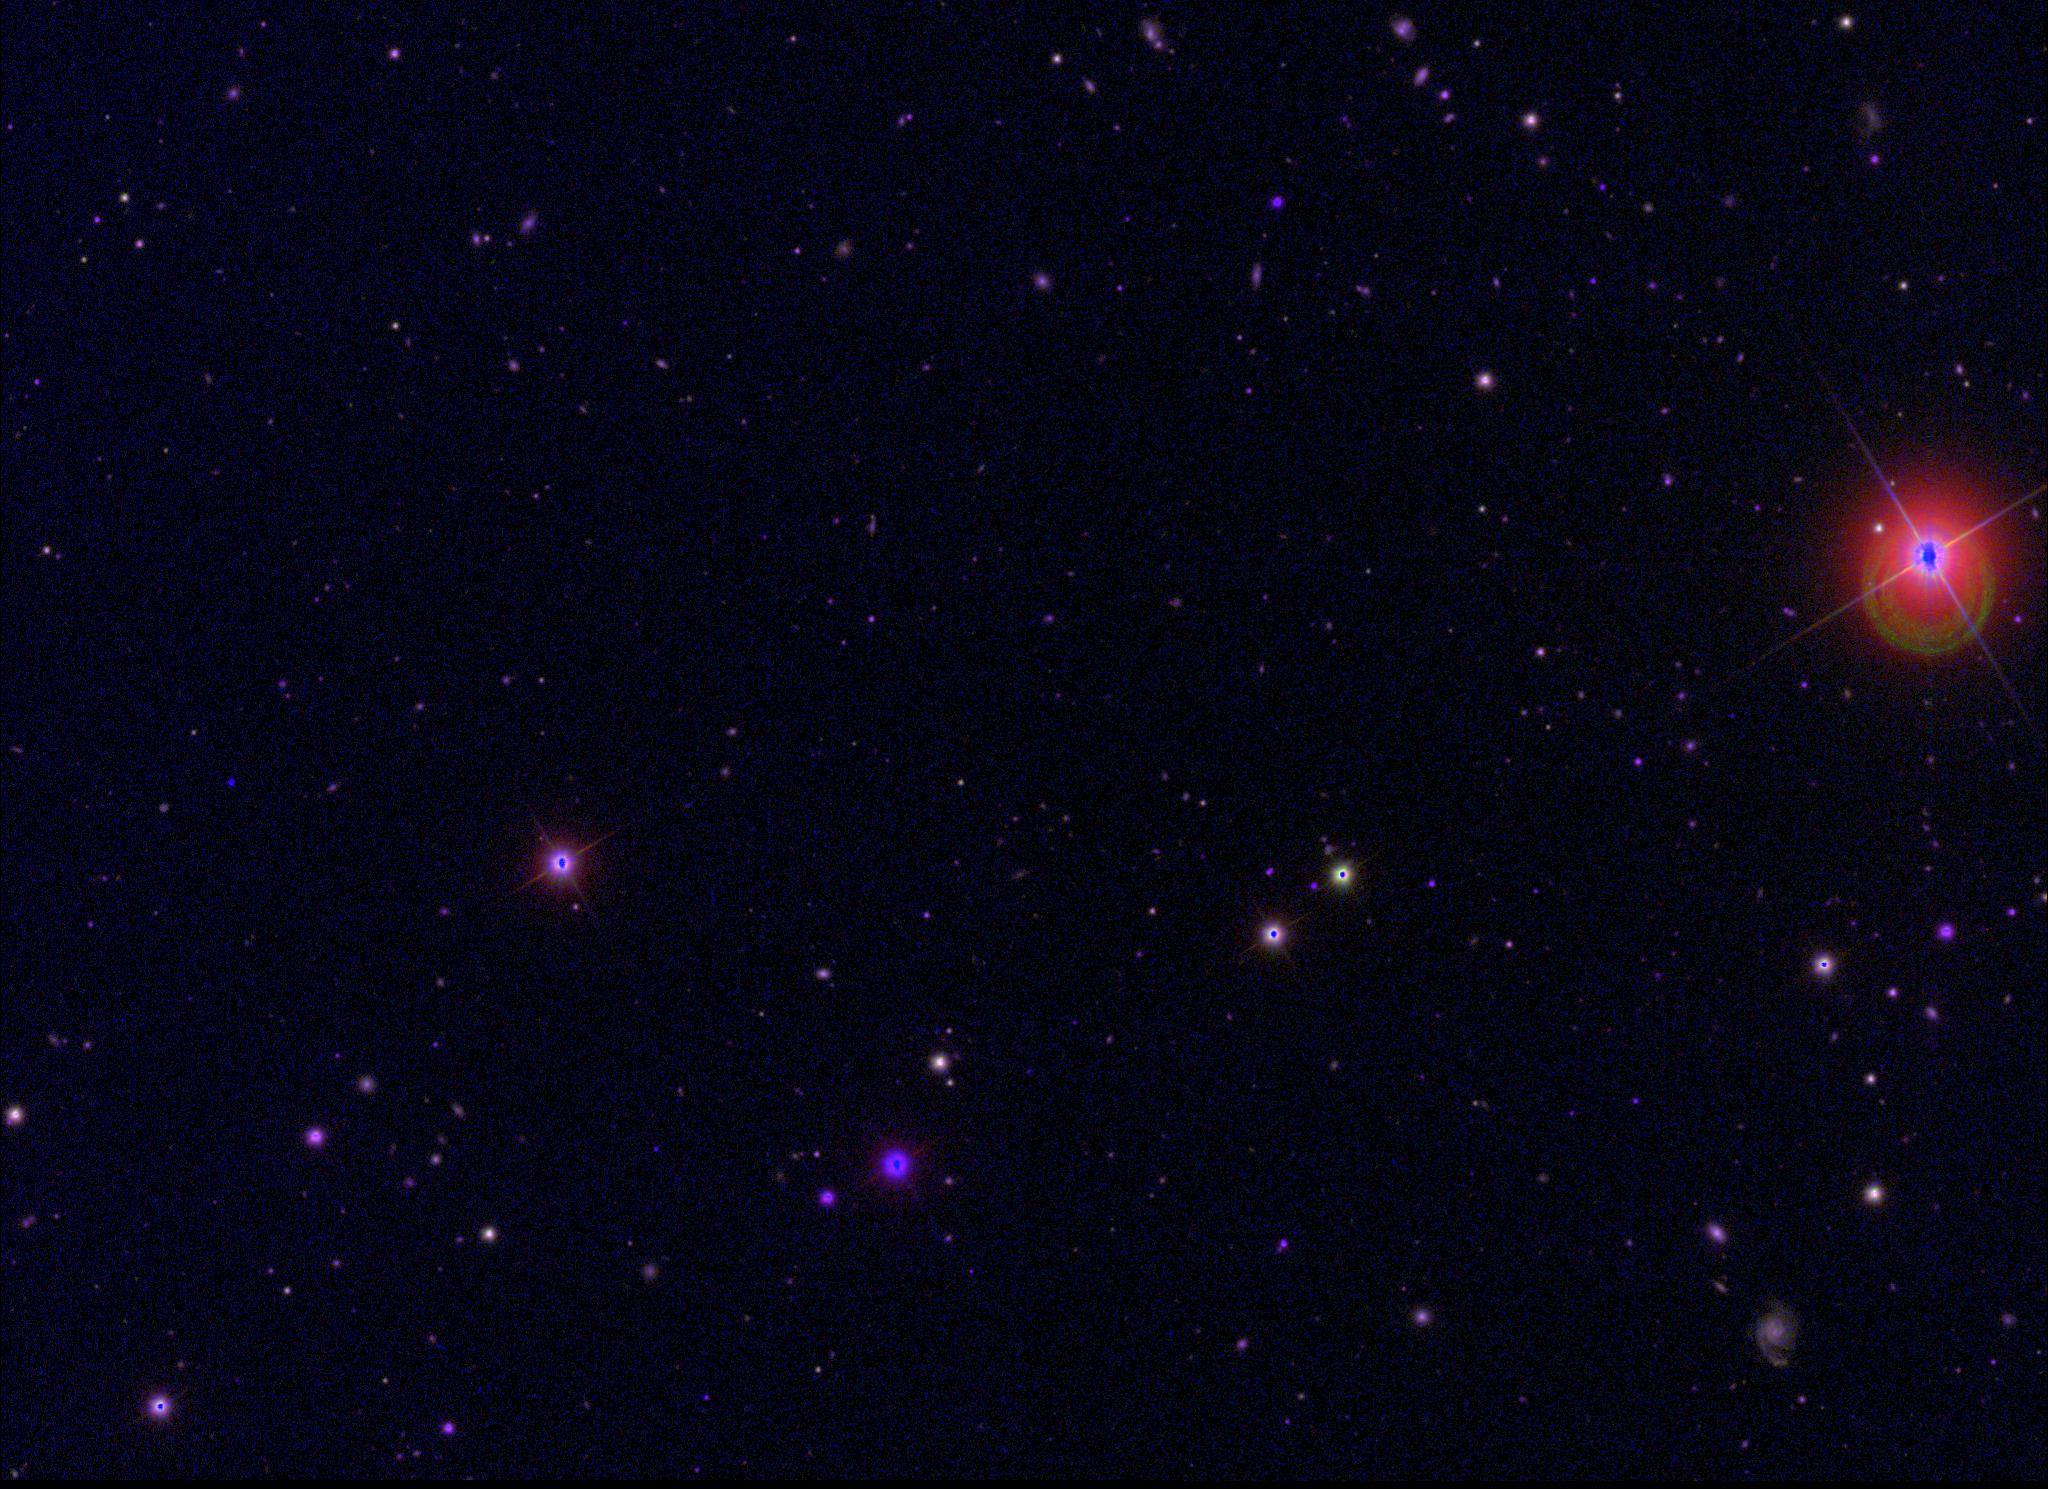L: (224, 776, 239, 791)
